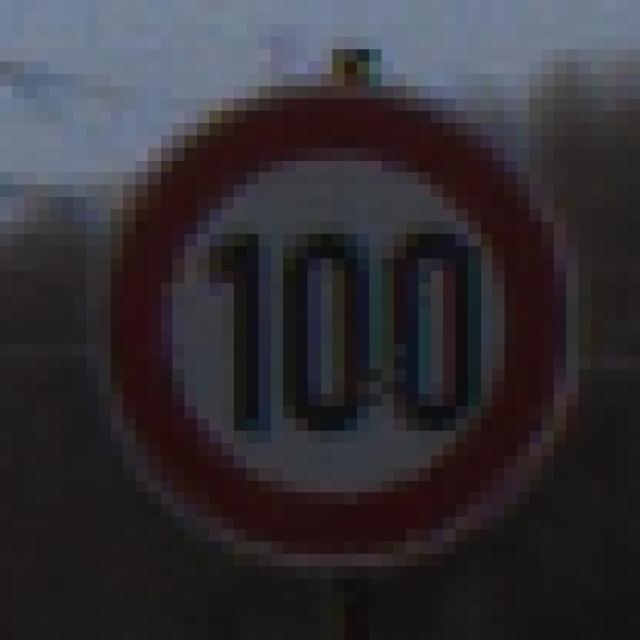forb_speed_over_100: (104, 90, 567, 561)
